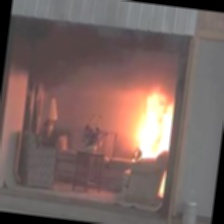fire: (118, 75, 186, 166)
